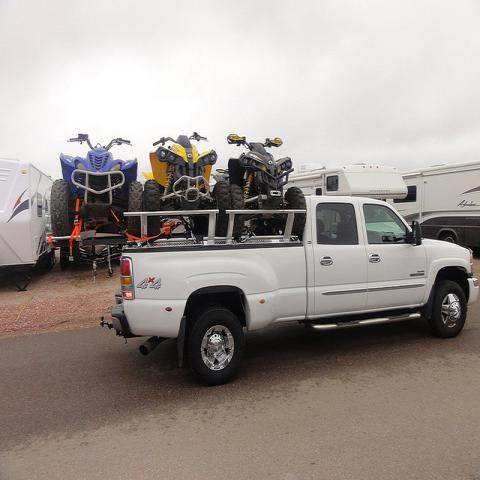bus: (393, 160, 479, 248)
car: (101, 162, 478, 386)
motorcycle: (142, 131, 219, 212), (225, 134, 308, 209)
truck: (47, 129, 480, 389)
